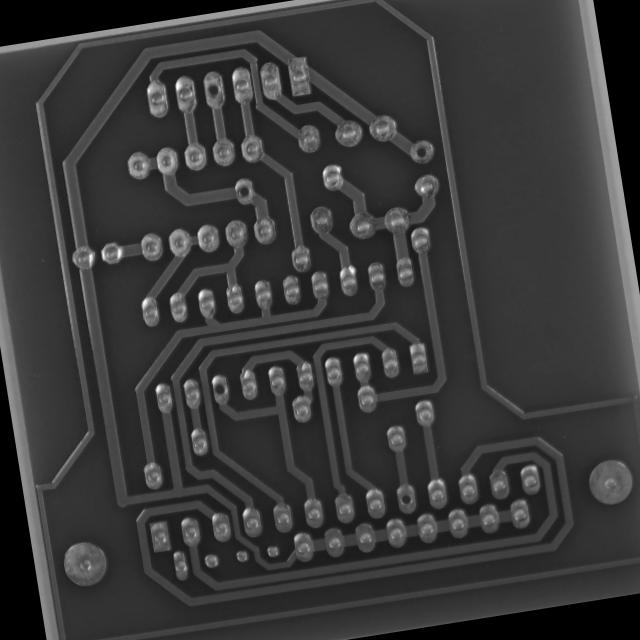missing_hole: (408, 137, 436, 165), (392, 484, 420, 512), (201, 75, 227, 104), (208, 375, 234, 402), (233, 177, 256, 203)
